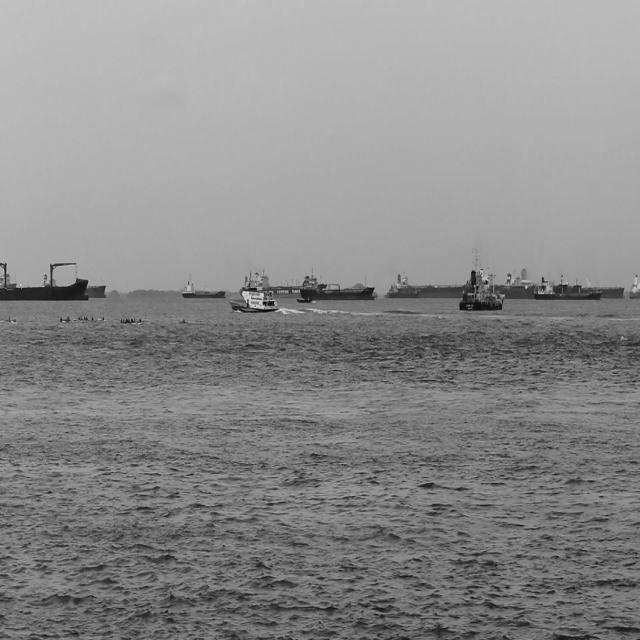ship: (384, 263, 530, 297), (0, 258, 92, 300), (521, 262, 628, 296), (459, 244, 507, 312), (301, 266, 377, 301), (242, 260, 304, 298), (534, 270, 604, 300), (224, 284, 280, 315), (43, 270, 108, 294), (182, 268, 230, 300), (0, 268, 22, 289)
